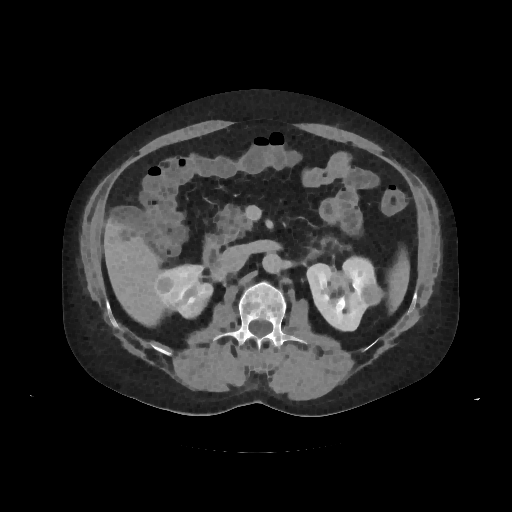Lesion: (354, 279, 386, 309)
